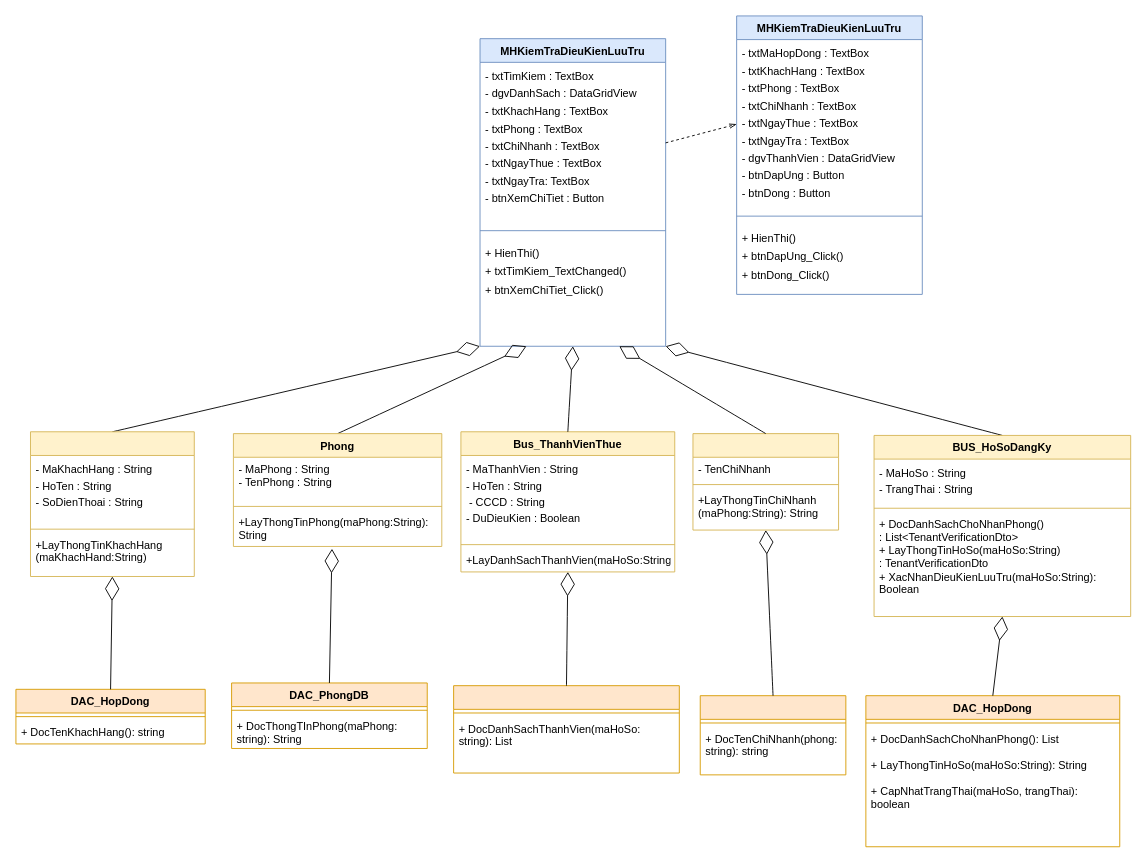
Some shapes in this 1147 by 865 pixel diagram are drawn without their labels. The box of each missing label's shape, as (x1, y1, x2, y2) in pixels:
Bus_ChiNhanh: (692, 433, 839, 530)
BUS_KhachHang: (30, 431, 194, 576)
DAC_ChiNhanh: (699, 695, 846, 775)
DAC_ThanhVienThue: (453, 685, 679, 773)
